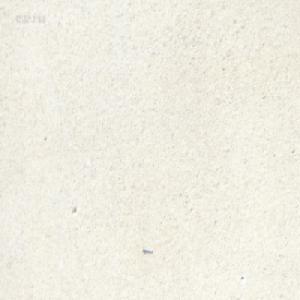Nail: (142, 245, 152, 253)
